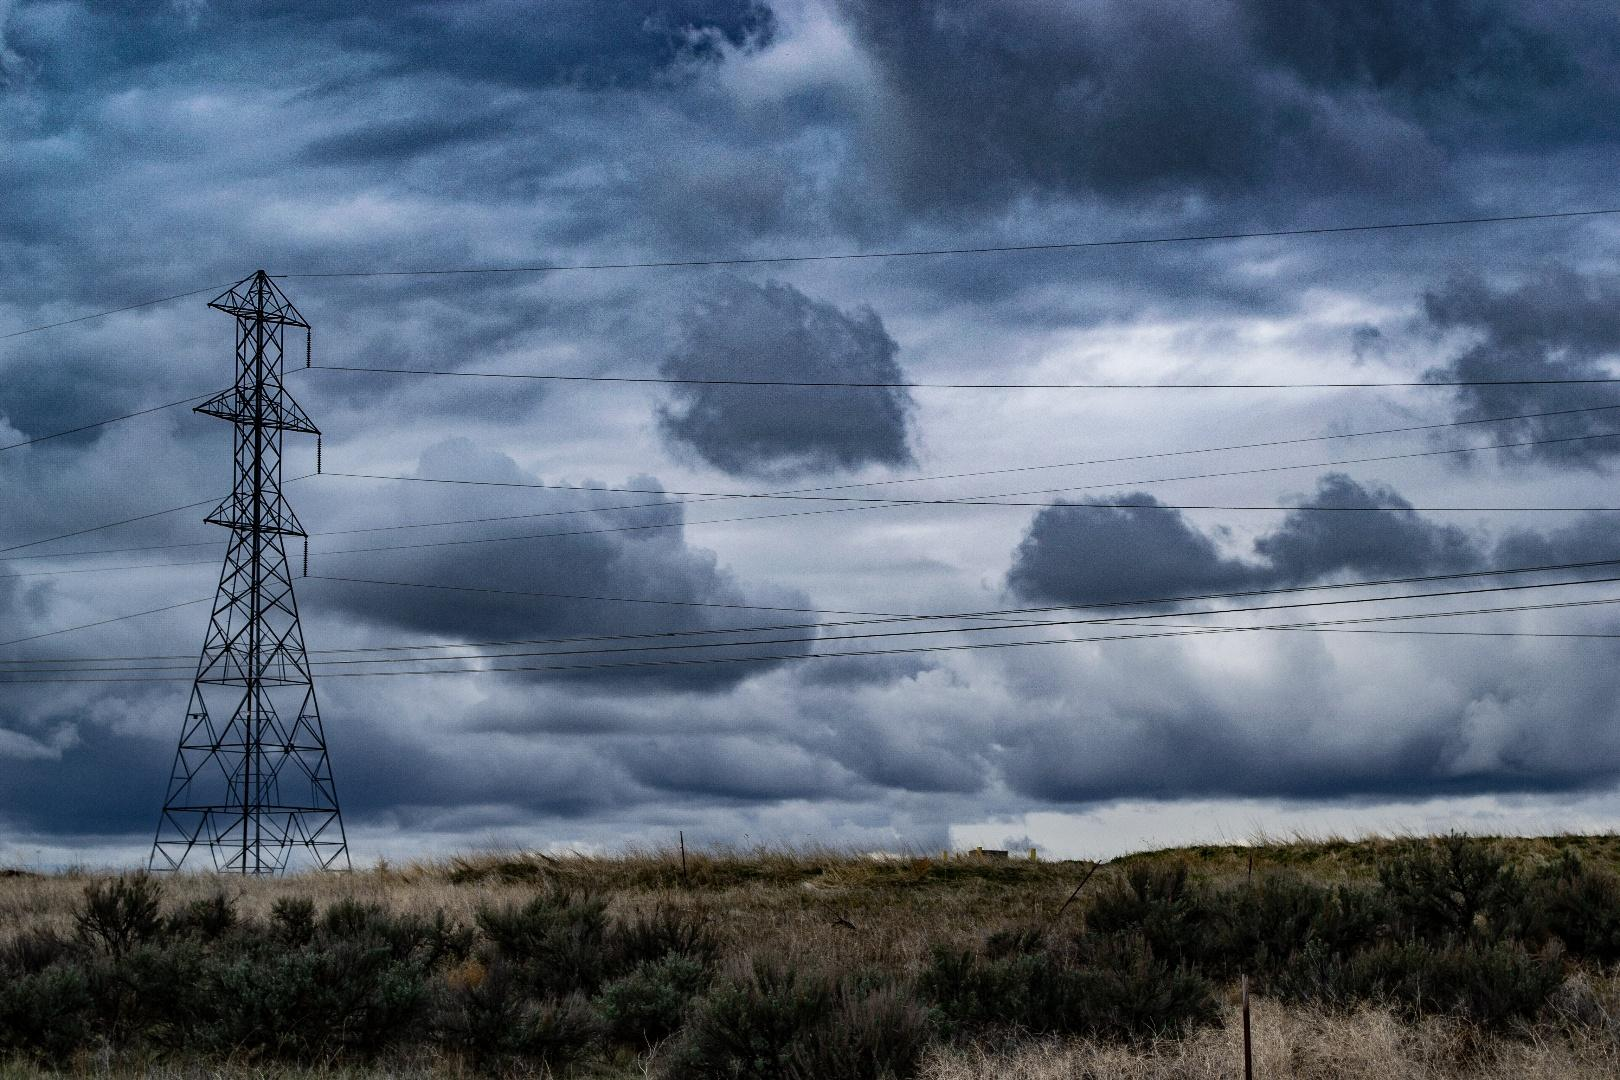battery: (1552, 1070, 1620, 1080)
